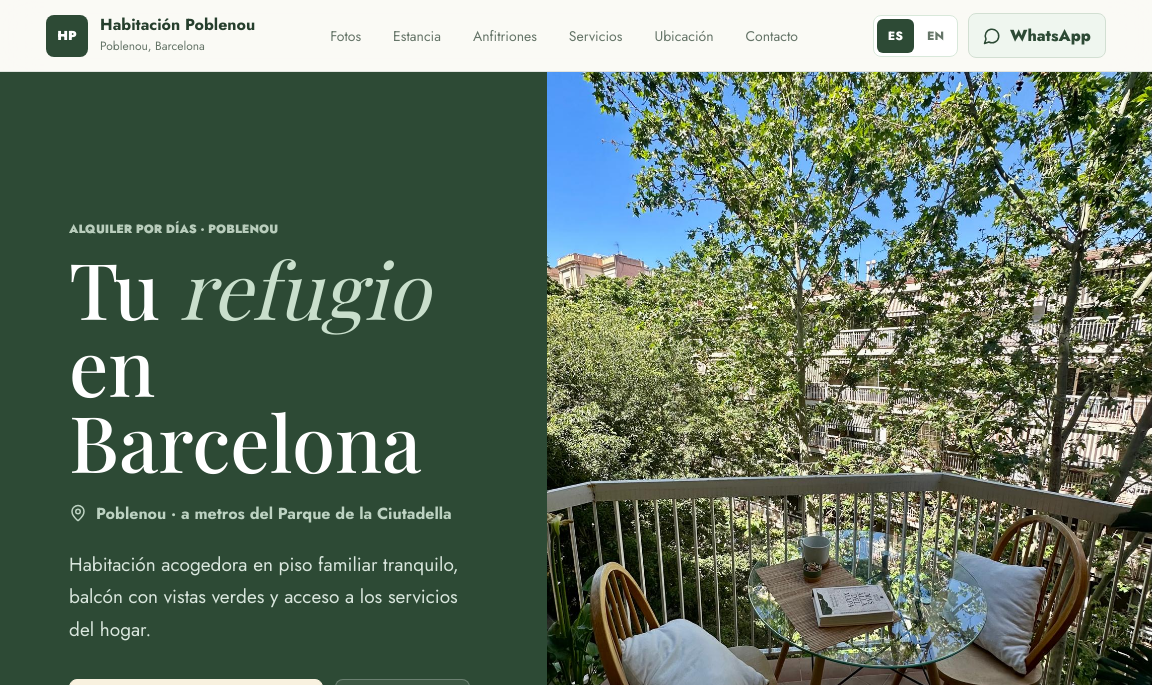
Test: promotional landing page › switches language to English
Click the button "EN" at (936, 36), box [917, 18, 954, 52]
(page scrolled)
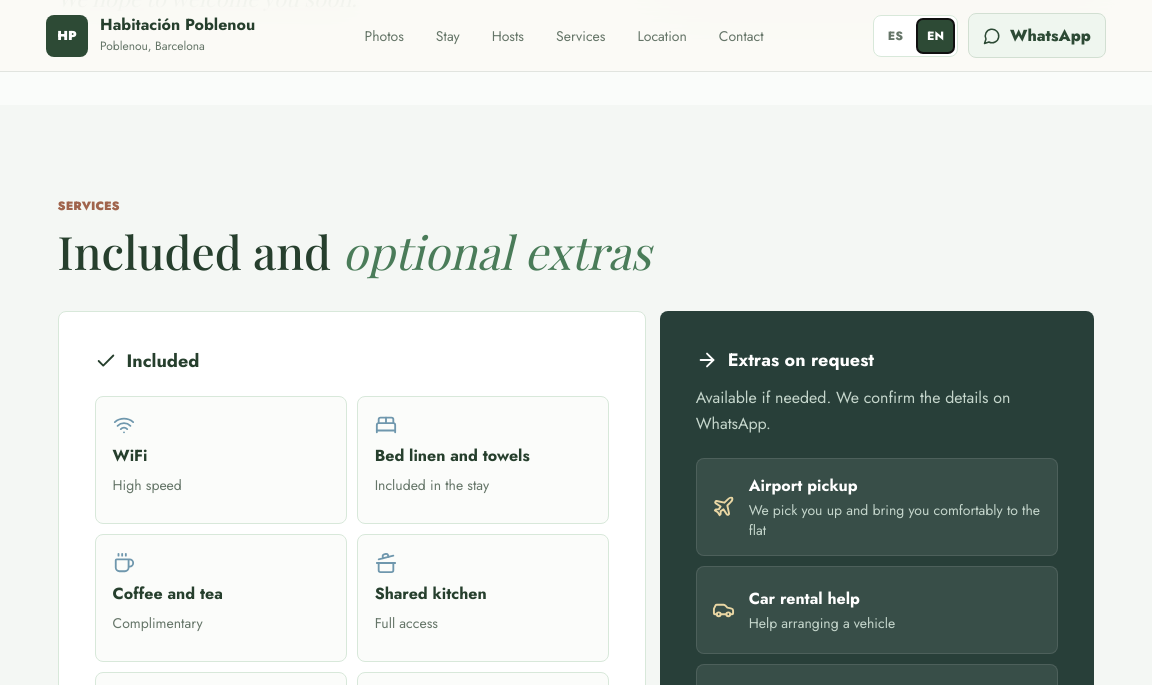
Now the heading "Extras on request" is shown, box [728, 347, 874, 373]
